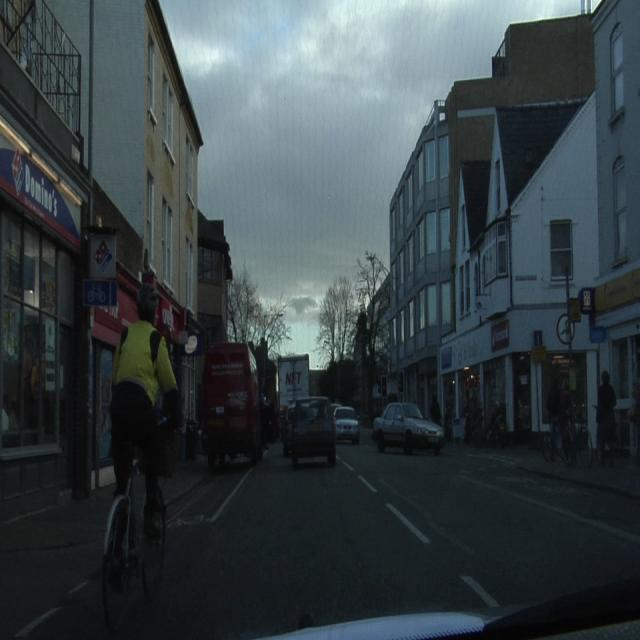Bicyclist: (102, 283, 180, 629)
Building: (0, 0, 231, 519), (388, 4, 637, 448)
Car: (285, 398, 335, 466), (374, 403, 443, 452), (336, 406, 359, 443)
Road: (112, 437, 639, 635)
Tree: (317, 249, 386, 398), (229, 267, 290, 358)
Truck_Bus: (195, 342, 260, 463)
person: (597, 371, 615, 453), (629, 373, 639, 460)
